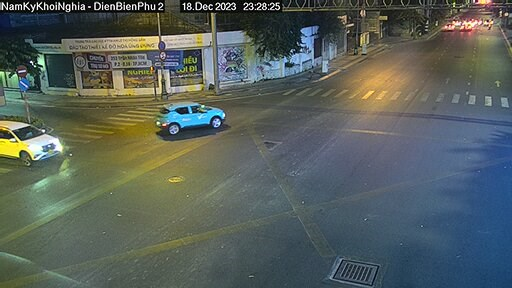car: (3, 115, 67, 166), (149, 96, 230, 135)
